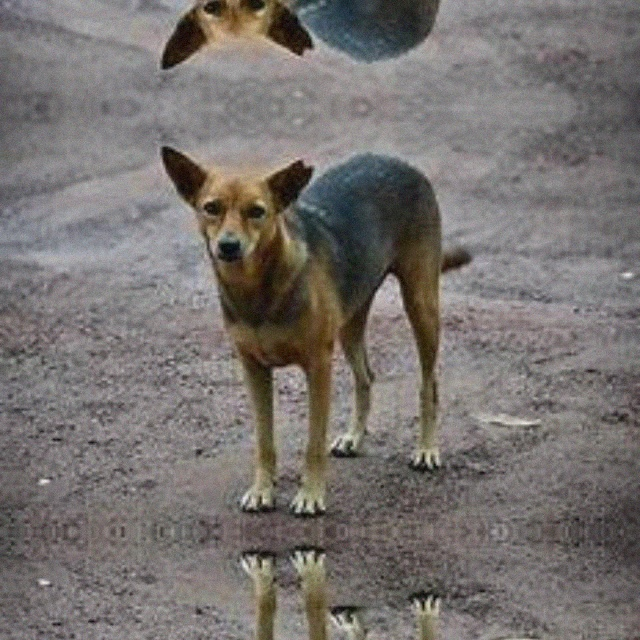dog: (172, 138, 502, 532), (172, 532, 502, 640), (172, 0, 502, 76)
